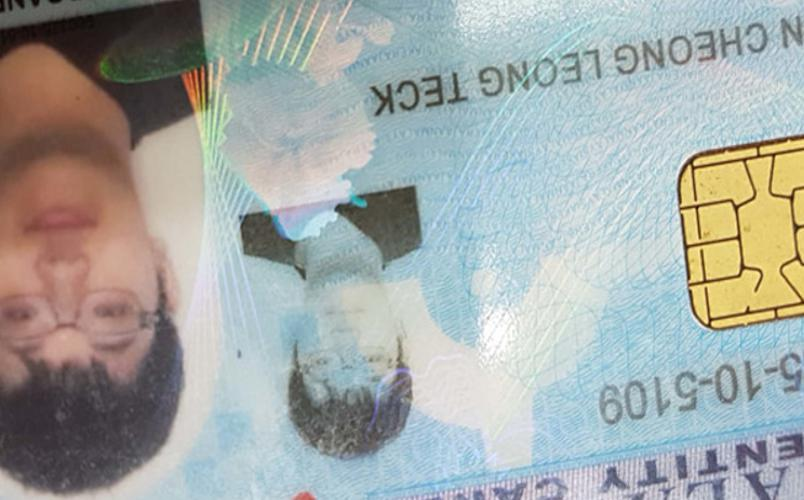hologramB: (203, 3, 366, 195)
